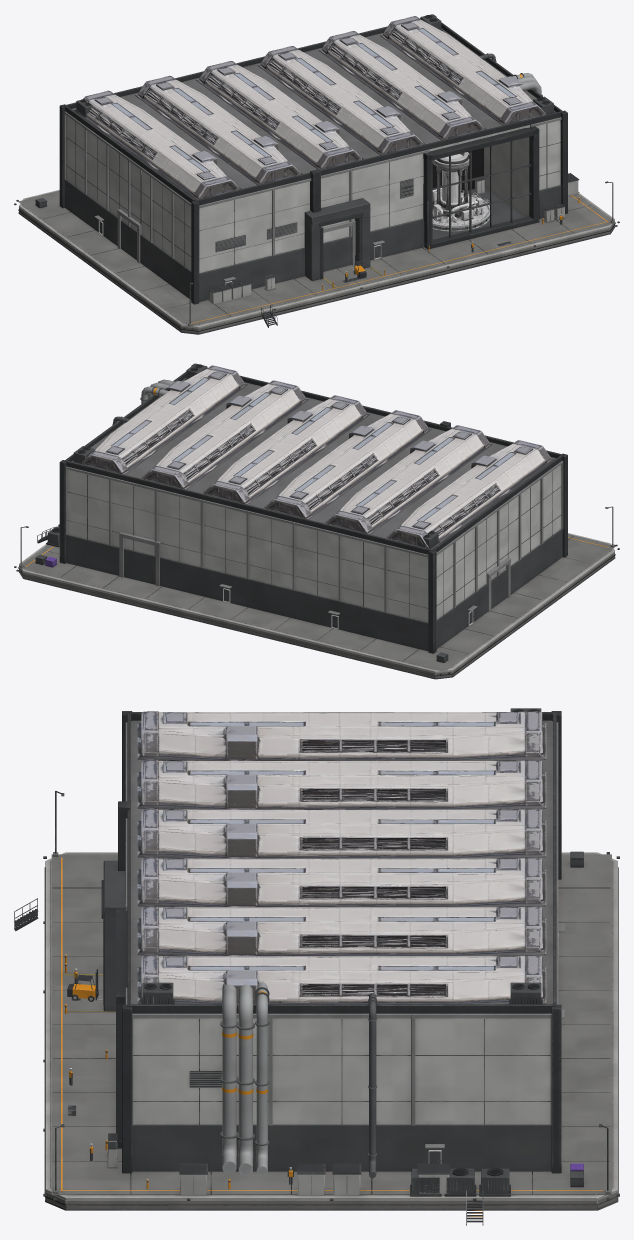
The model's file is silicon_foundry.glb.
The picture shows the model from 3 angles, top to bottom: view 1: azimuth 30°, elevation 25°; view 2: azimuth 150°, elevation 25°; view 3: azimuth 270°, elevation 25°; orthographic projection. The views are drawn at different scales.
Parts seen in each view (by area): view 1: hull, parts_colony-roofMonitor, parts_colony-crystalReactor; view 2: hull, parts_colony-roofMonitor; view 3: hull, parts_colony-roofMonitor.
Part boxes in pixels (x1=…): hull: x1=14, y1=14, x2=619, y2=334; parts_colony-roofMonitor: x1=73, y1=16, x2=545, y2=199; parts_colony-crystalReactor: x1=432, y1=152, x2=489, y2=232; hull: x1=14, y1=363, x2=619, y2=679; parts_colony-roofMonitor: x1=82, y1=365, x2=553, y2=549; hull: x1=14, y1=708, x2=619, y2=1225; parts_colony-roofMonitor: x1=137, y1=711, x2=546, y2=1004.
Size of the model in its own units: 83.28 by 21.26 by 59.27.
Materials: 6 (6 with a texture image).
